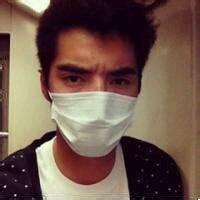face_mask: (49, 30, 139, 148)
